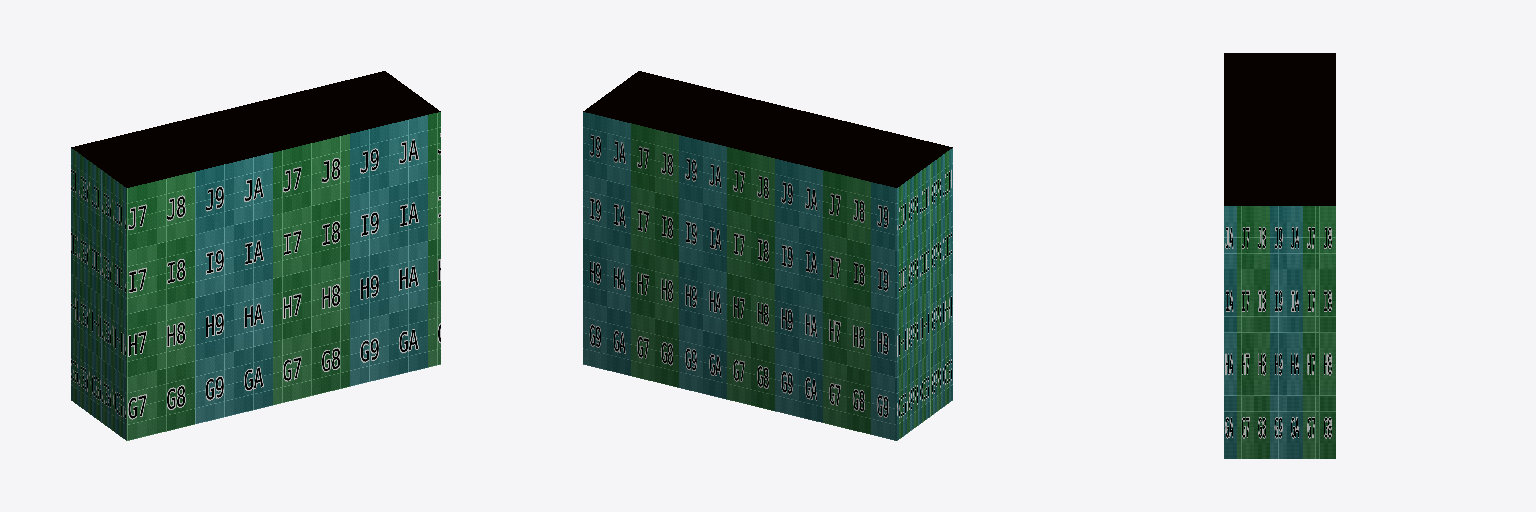
3 renders of one model, left to right at view 1: azimuth 30°, elevation 25°; view 2: azimuth 150°, elevation 25°; view 3: azimuth 270°, elevation 25°, orthographic.
Visible parts, largest first — view 1: Cube; view 2: Cube; view 3: Cube.
Boxes of the visible parts, x1=… form: Cube: x1=71, y1=71, x2=440, y2=440; Cube: x1=583, y1=71, x2=952, y2=440; Cube: x1=1224, y1=53, x2=1335, y2=458.
Size of the model in its own units: 3.25 by 2.5 by 1.
3 materials, 2 textured.